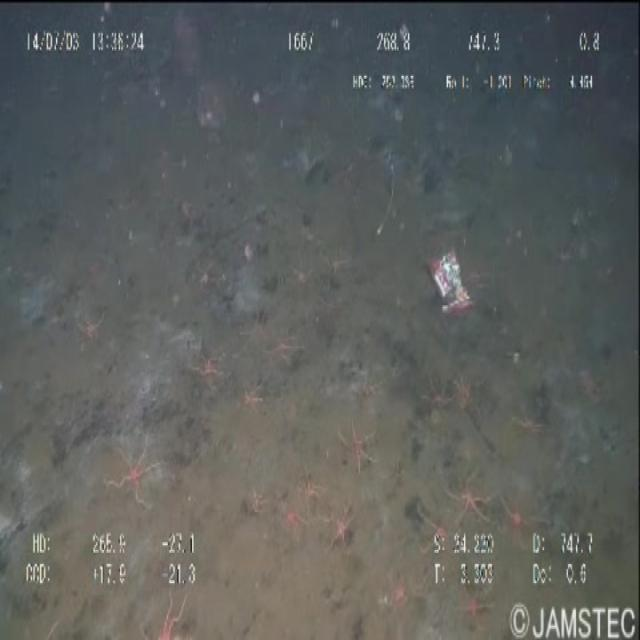Litter: (426, 246, 485, 330)
Wood: (370, 139, 408, 256)
